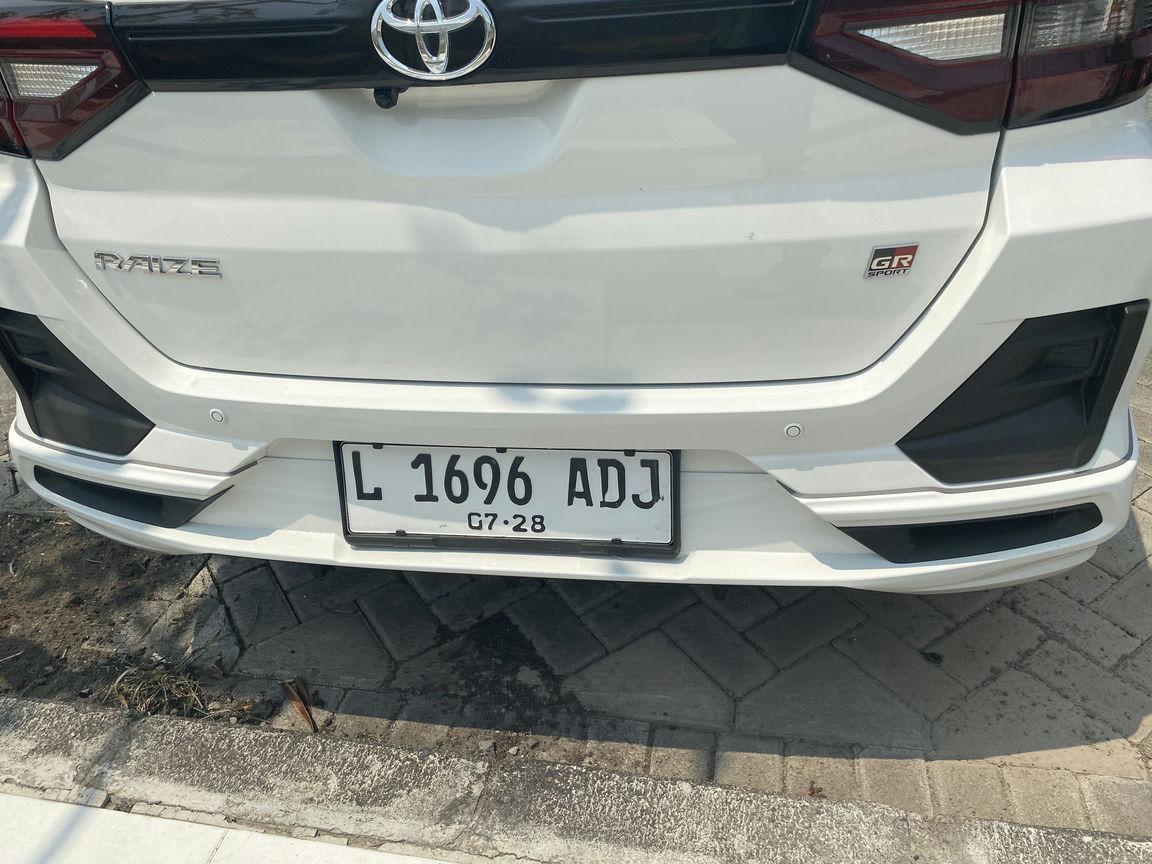plat: (336, 443, 680, 556)
